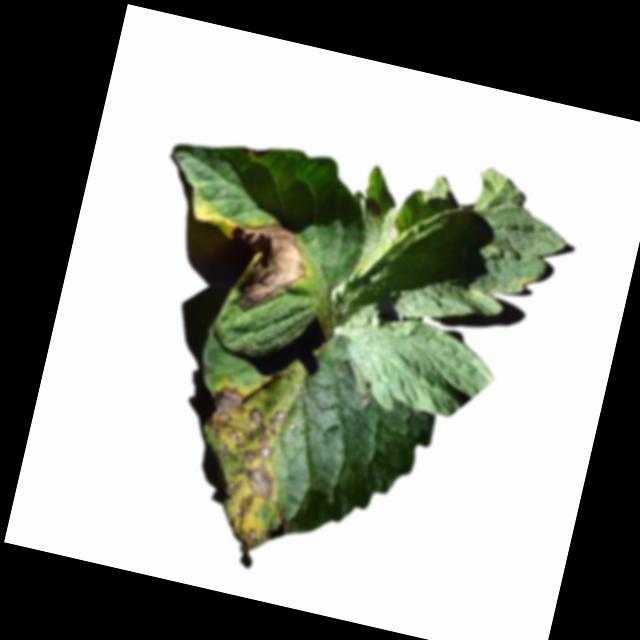Early_blight: (178, 379, 318, 560), (209, 213, 316, 325), (362, 197, 383, 221), (243, 142, 269, 161)
